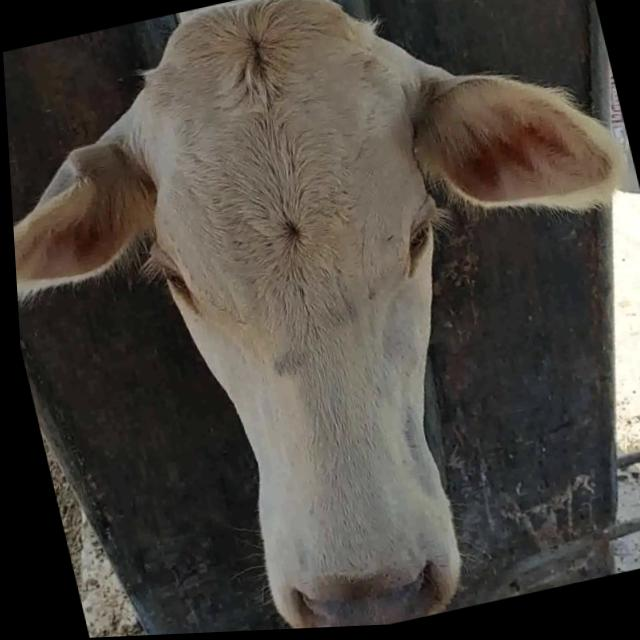cowFace: (101, 0, 520, 636)
